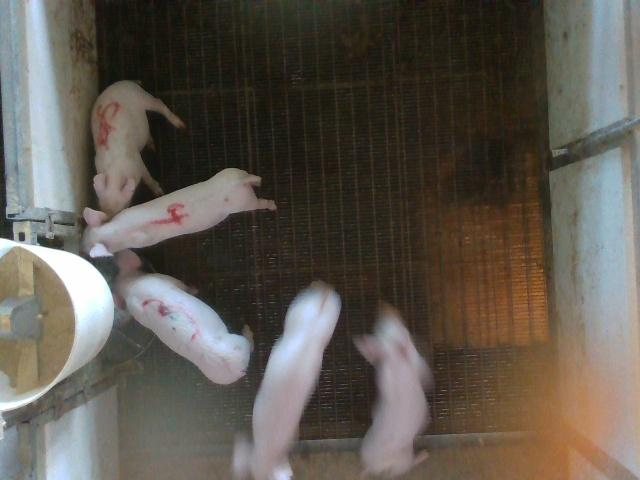pig-3: (115, 251, 252, 384)
pig-4: (84, 169, 276, 258)
pig-5: (91, 80, 184, 218)
